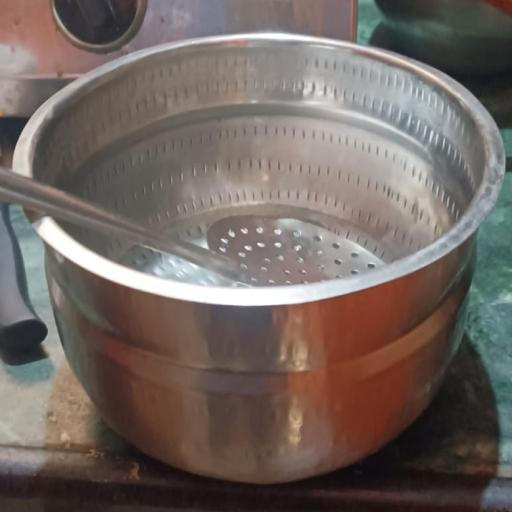vessel: (14, 33, 503, 481)
